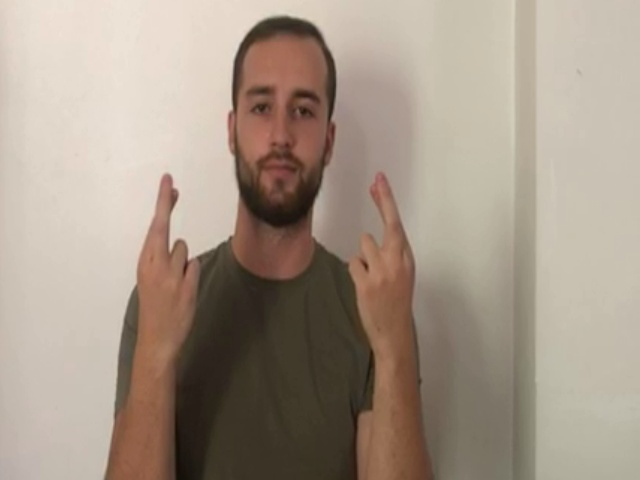Nadevanja: (130, 166, 424, 380)
